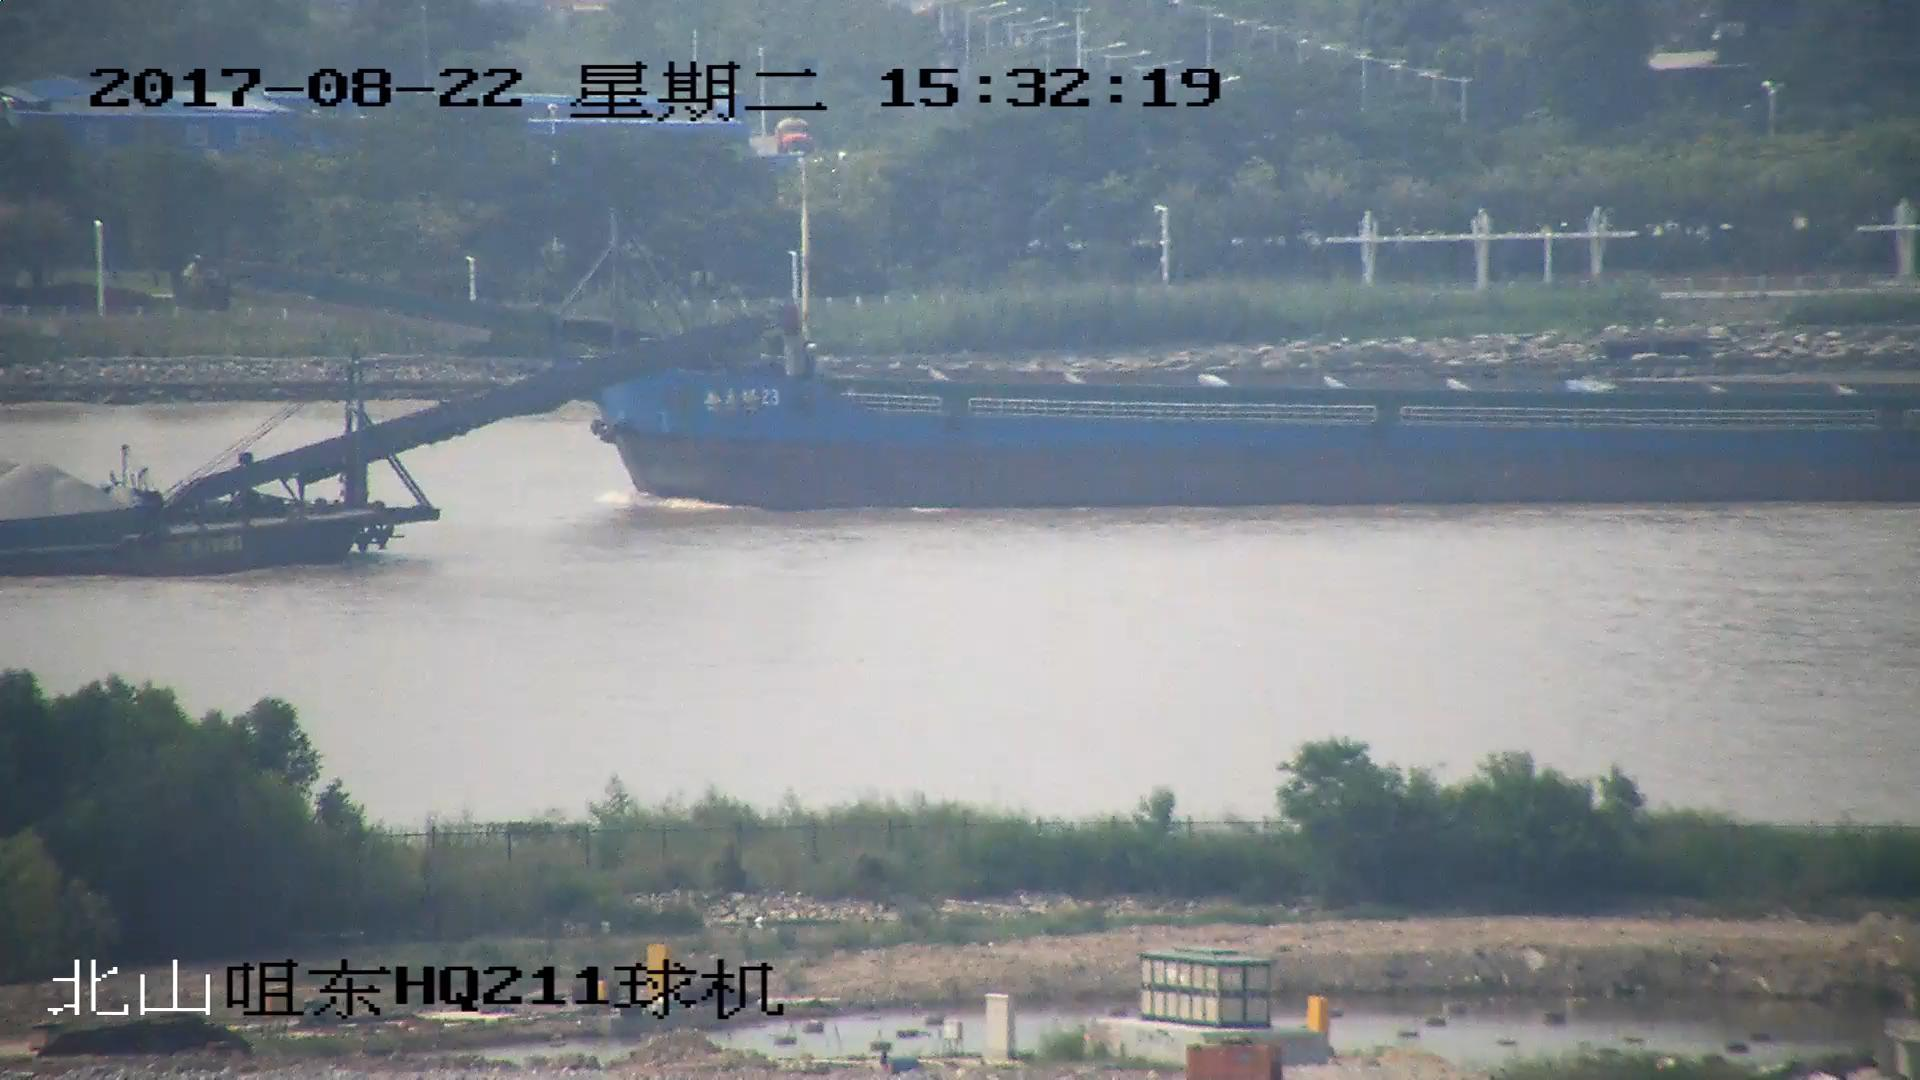Ship: (203, 257, 1920, 514), (3, 309, 794, 585)
